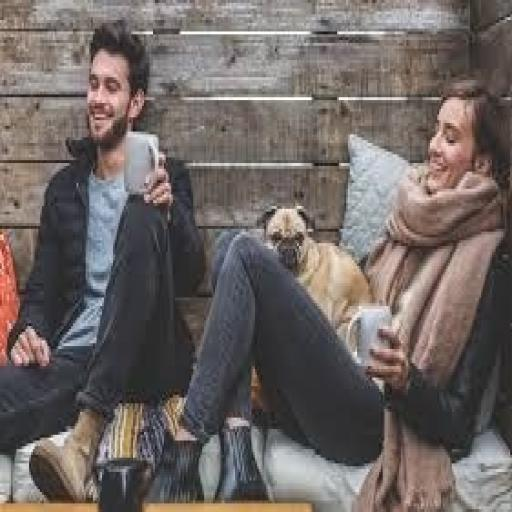sitting: (2, 17, 508, 504), (0, 17, 206, 501)
